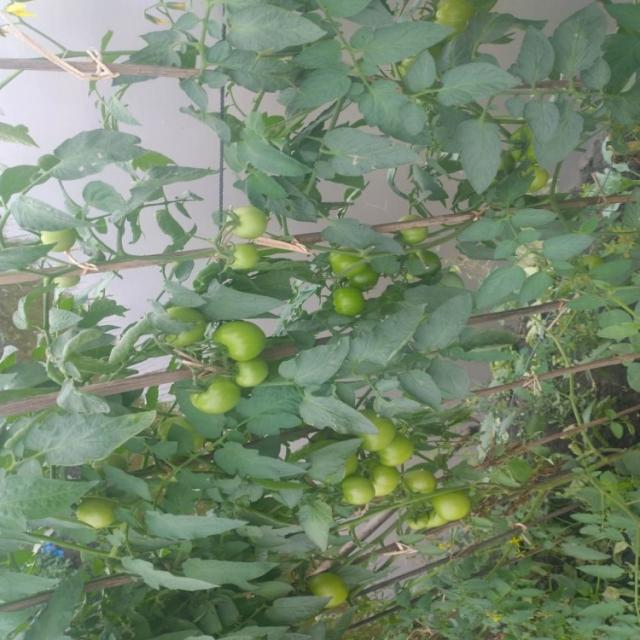tomato: (153, 305, 220, 351), (216, 316, 274, 364), (189, 370, 243, 421), (73, 490, 127, 538), (320, 285, 375, 330), (219, 202, 277, 238), (428, 483, 480, 522), (356, 405, 398, 451), (225, 357, 279, 389), (429, 1, 483, 33), (365, 459, 406, 501), (332, 475, 383, 508), (329, 241, 369, 278), (220, 234, 257, 272), (315, 568, 345, 614), (344, 258, 385, 288), (504, 124, 537, 161), (39, 225, 82, 252), (384, 434, 414, 465), (404, 218, 437, 246), (402, 456, 426, 484)
